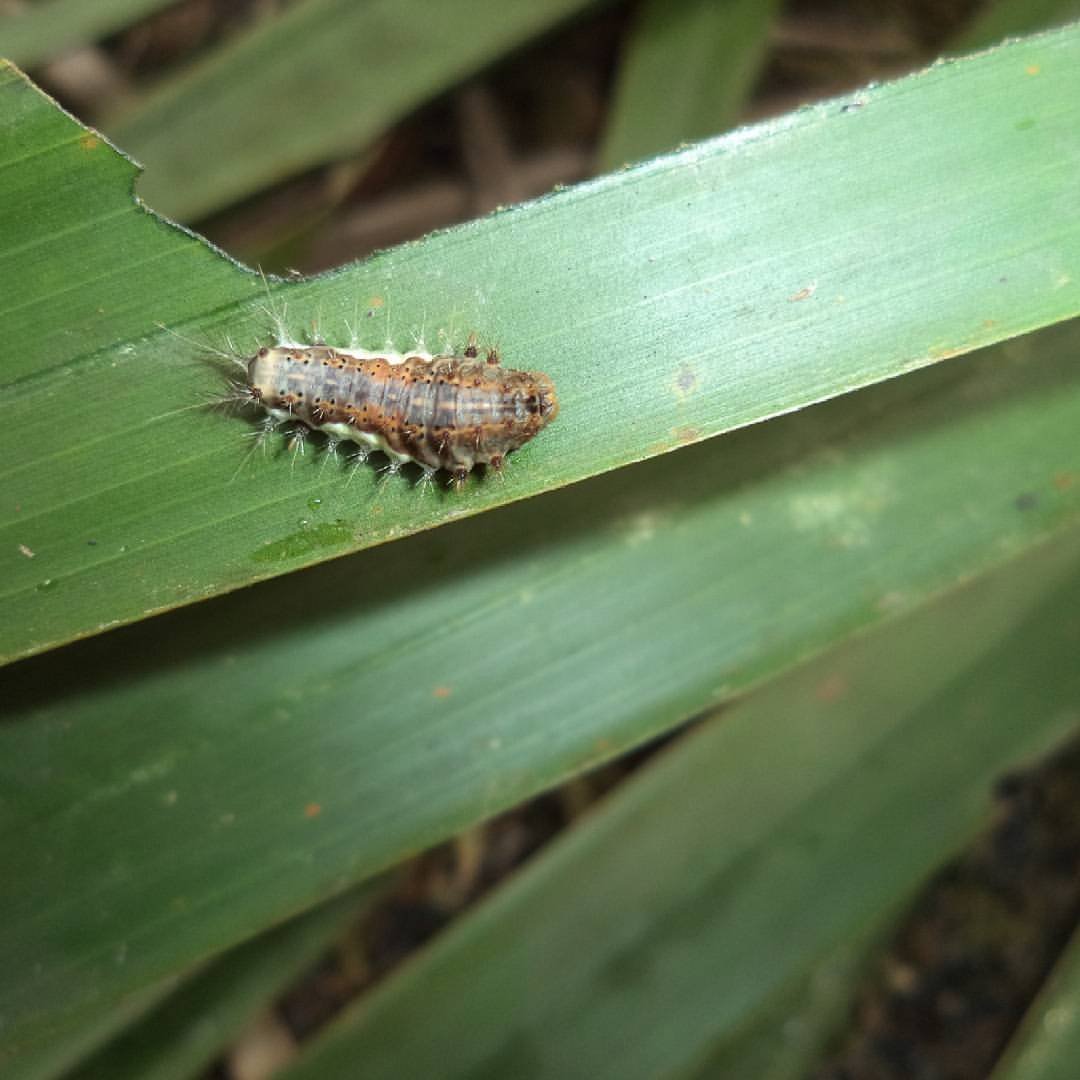Pest! (nettle_caterpillar): (230, 273, 571, 485)
